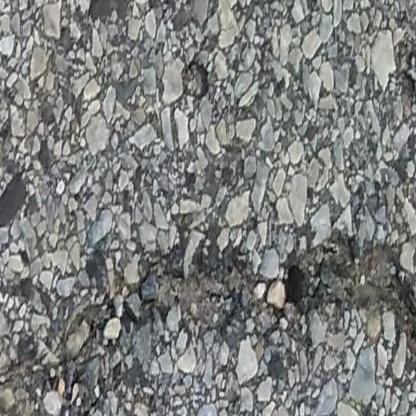Cracks: (0, 238, 416, 416)
